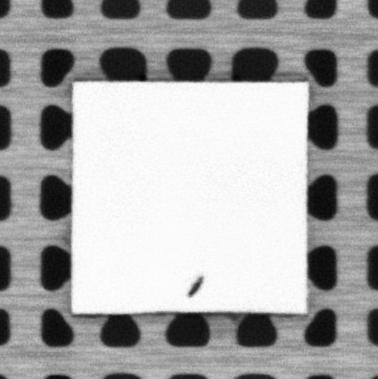DIE_INK: (186, 275, 204, 299)
